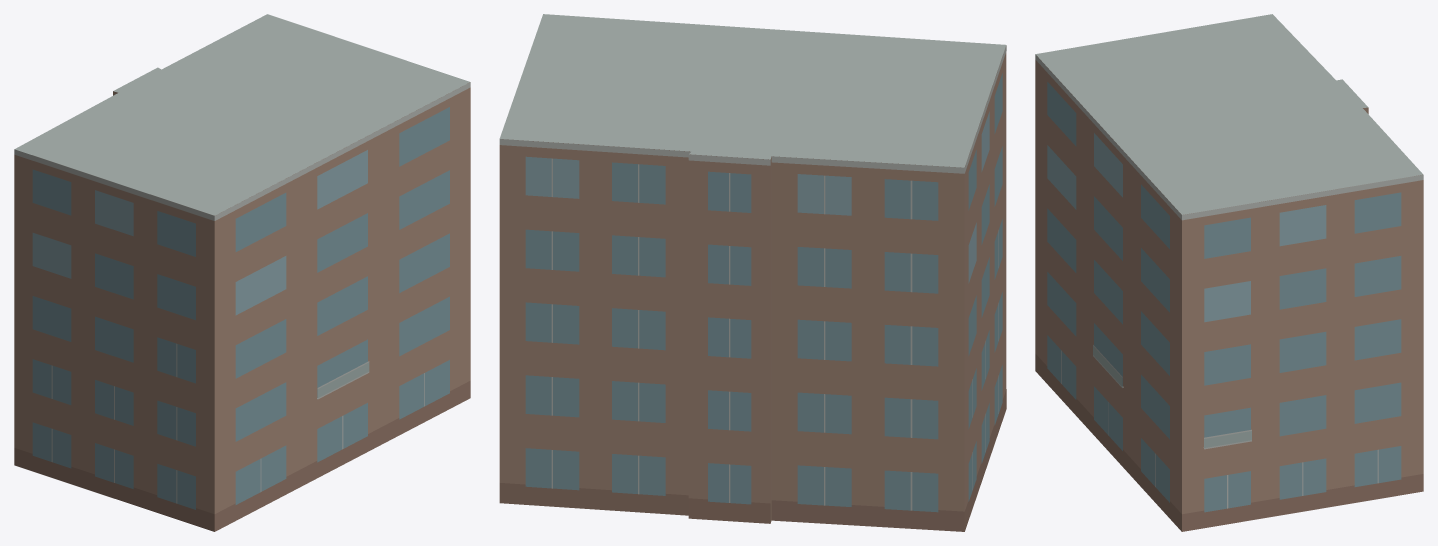
File: survey-upis-33006423.glb
3 renders of one model, left to right at view 1: azimuth 30°, elevation 25°; view 2: azimuth 150°, elevation 25°; view 3: azimuth 270°, elevation 25°, orthographic. The views are drawn at different scales.
Parts seen in each view (by area): view 1: survey-upis-33006423.tmp; view 2: survey-upis-33006423.tmp; view 3: survey-upis-33006423.tmp.
Boxes of the visible parts, left/top/right/bottom form: survey-upis-33006423.tmp: left=14, top=14, right=470, bottom=531; survey-upis-33006423.tmp: left=499, top=14, right=1006, bottom=531; survey-upis-33006423.tmp: left=1035, top=14, right=1423, bottom=531.
Bounding box in the file's own units: 19.64 × 14.43 × 16.03.
